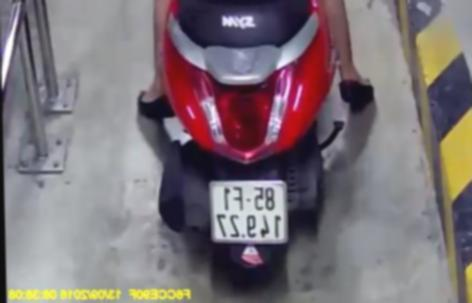License_Plate: (207, 176, 297, 248)
